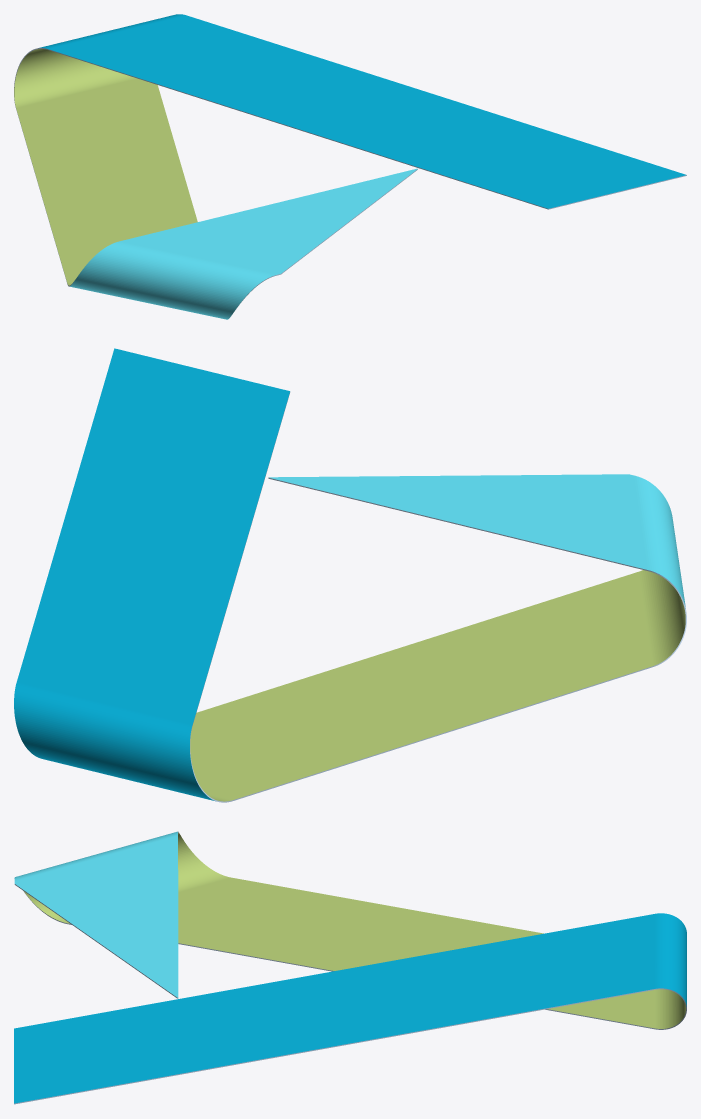
Rendered from autodesk.gltf.
3 renders of one model, top to bottom at view 1: azimuth 30°, elevation 25°; view 2: azimuth 150°, elevation 25°; view 3: azimuth 270°, elevation 25°, orthographic. The views are drawn at different scales.
Visible parts, largest first — view 1: Node4, Node3, Node2, Node1; view 2: Node4, Node3, Node2, Node1; view 3: Node4, Node3, Node2, Node1.
Part boxes in pixels (x1,y1,x2,y2): Node4: [39, 14, 685, 208]; Node3: [14, 49, 197, 285]; Node2: [70, 168, 417, 319]; Node1: [14, 48, 686, 302]; Node4: [14, 348, 289, 801]; Node3: [190, 570, 685, 801]; Node2: [269, 474, 685, 608]; Node1: [190, 392, 686, 802]; Node4: [14, 913, 686, 1103]; Node3: [24, 832, 685, 1028]; Node2: [14, 831, 178, 997]; Node1: [14, 831, 686, 1104].
Bounding box in the file's own units: 132 × 12.4 × 131.
